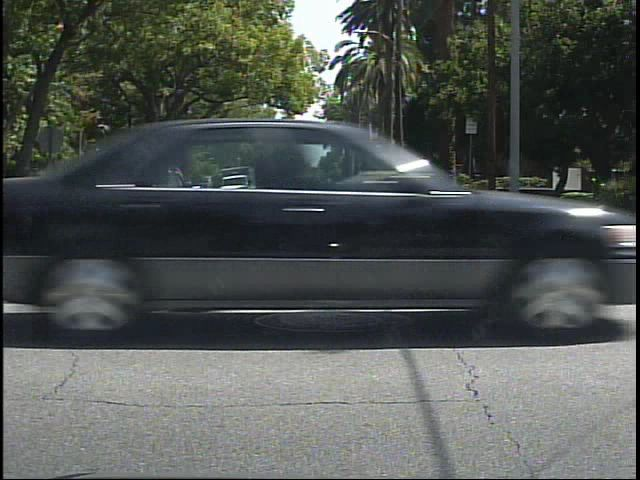car: (1, 104, 639, 344)
